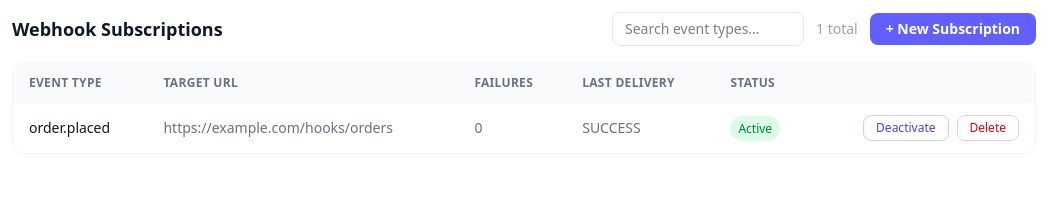
WebhookSubscriptionsTab › surfaces the backend message when deactivation fails
Expected: the text "order.placed" is shown, [29,118,110,137]
Click the button "Deactivate" at (906, 128), box [863,115,948,141]
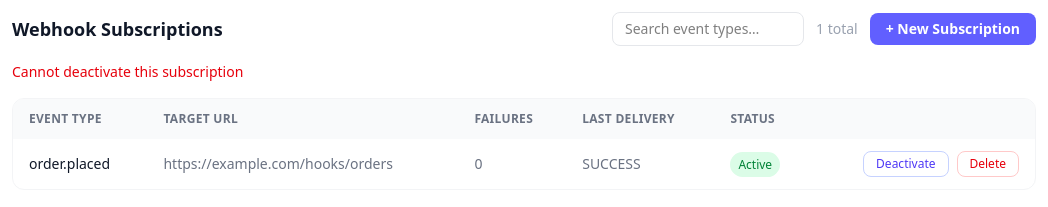
Expected: the text "order.placed" is shown, [29,154,110,173]
Expected: the text "Cannot deactivate this subscription" is shown, [12,62,243,81]
